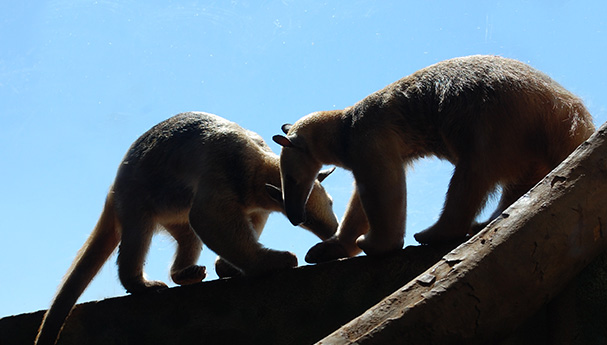TamanduaBandeira: (269, 48, 592, 260), (32, 113, 339, 318)
